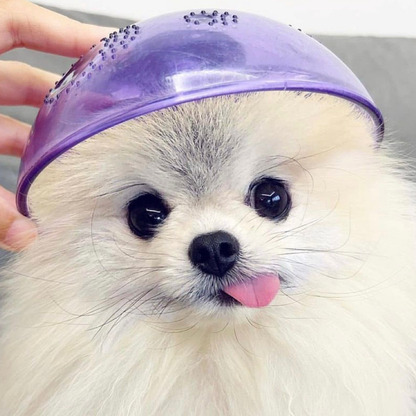Pomeranian: (30, 115, 390, 397)
